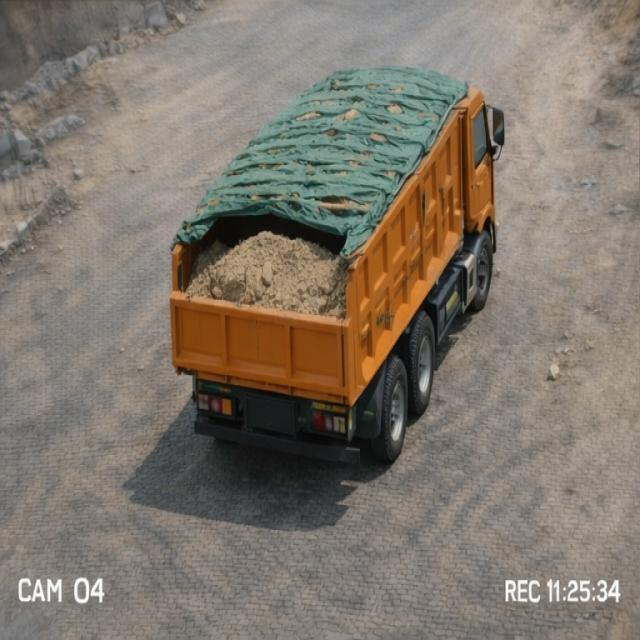Box: (170, 69, 487, 306)
Truck: (156, 41, 514, 473)
